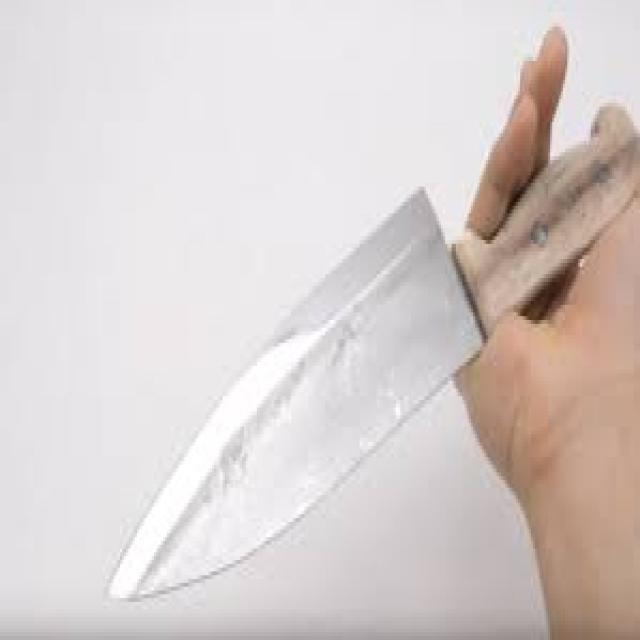knives: (52, 86, 586, 626)
